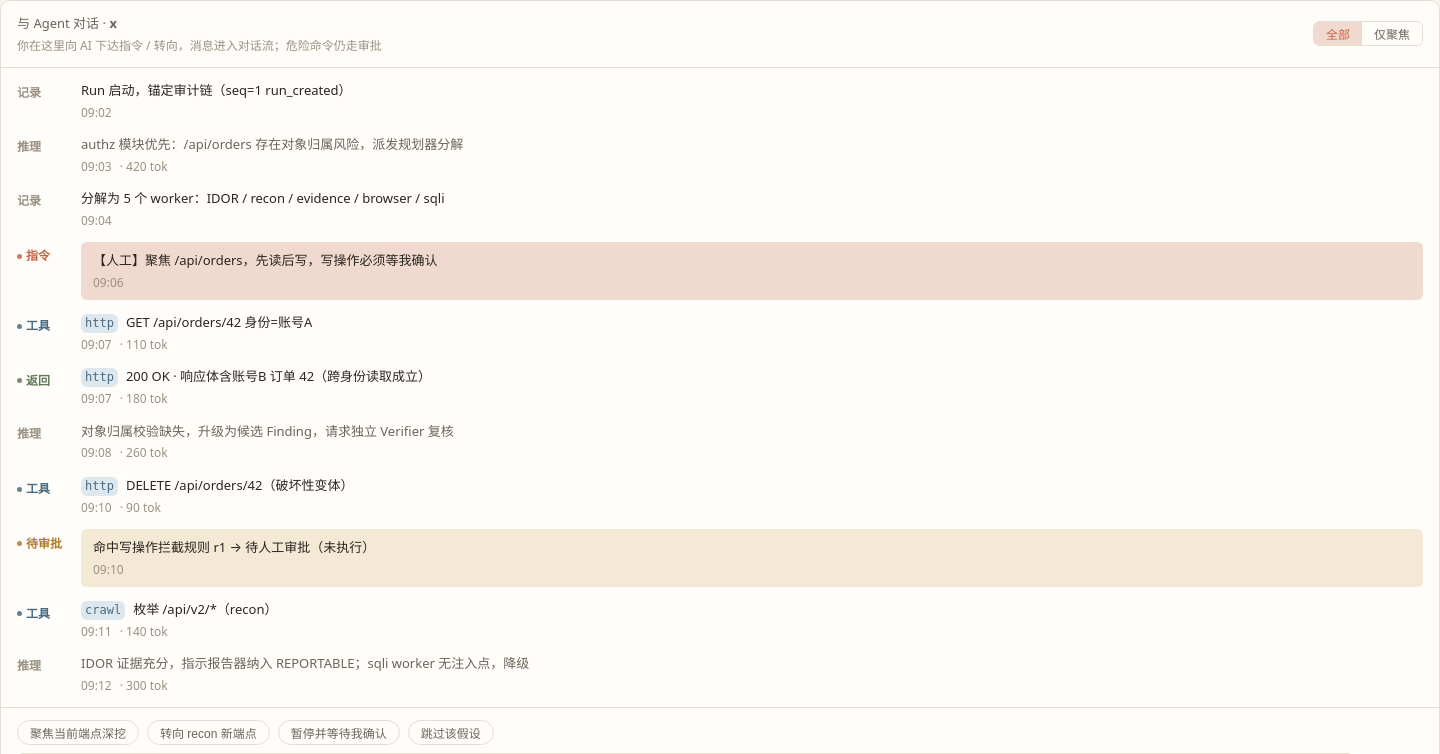
it: OrchestrationChat（编排对话 + 人工转向） › 「仅聚焦」范围过滤到聚焦 Agent
The width and height of the screenshot is (1440, 754).
Expected: the text "authz 模块优先：/api/orders 存在对象归属风险，派发规划器分解" is shown, [81,134,463,155]
Click the button "仅聚焦": (1392, 34) [1362,22,1422,46]
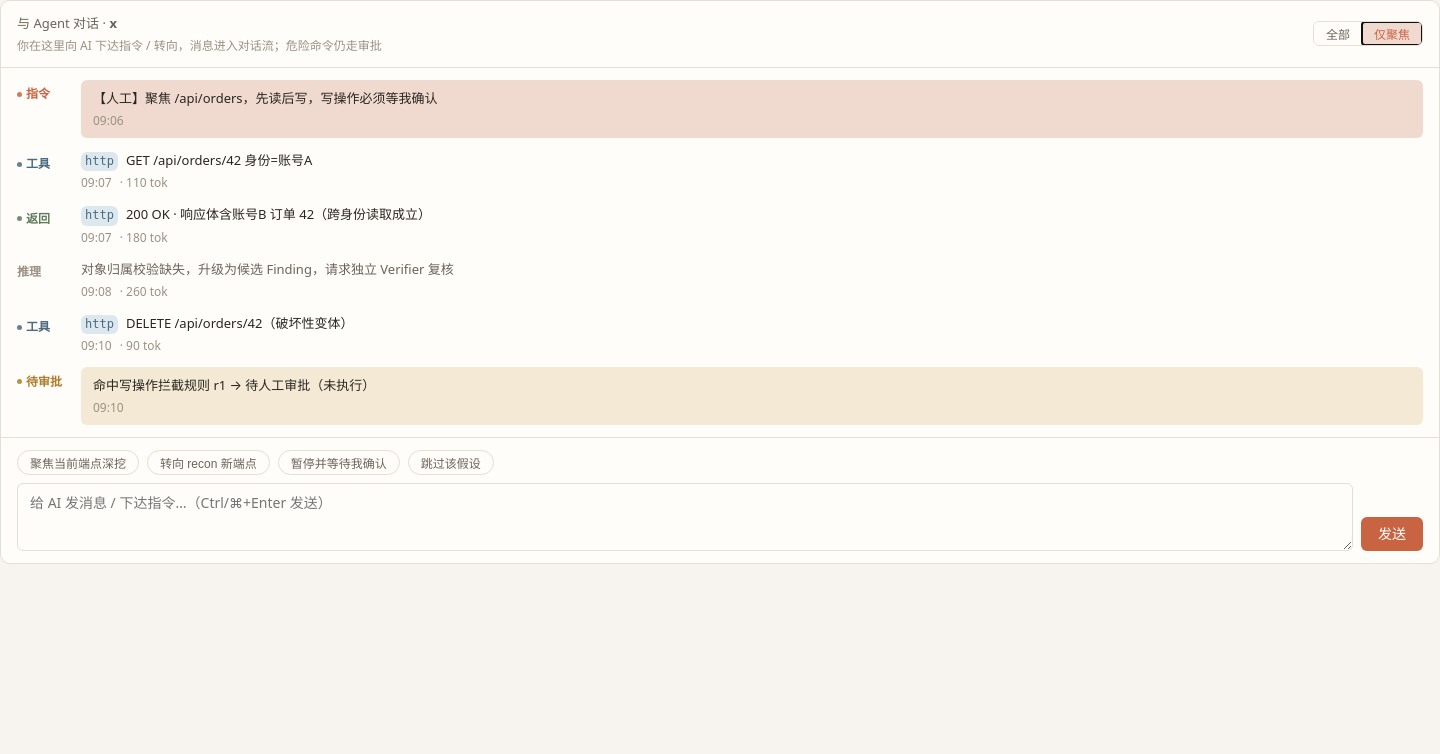
Result: the text "派发规划器" is gone
